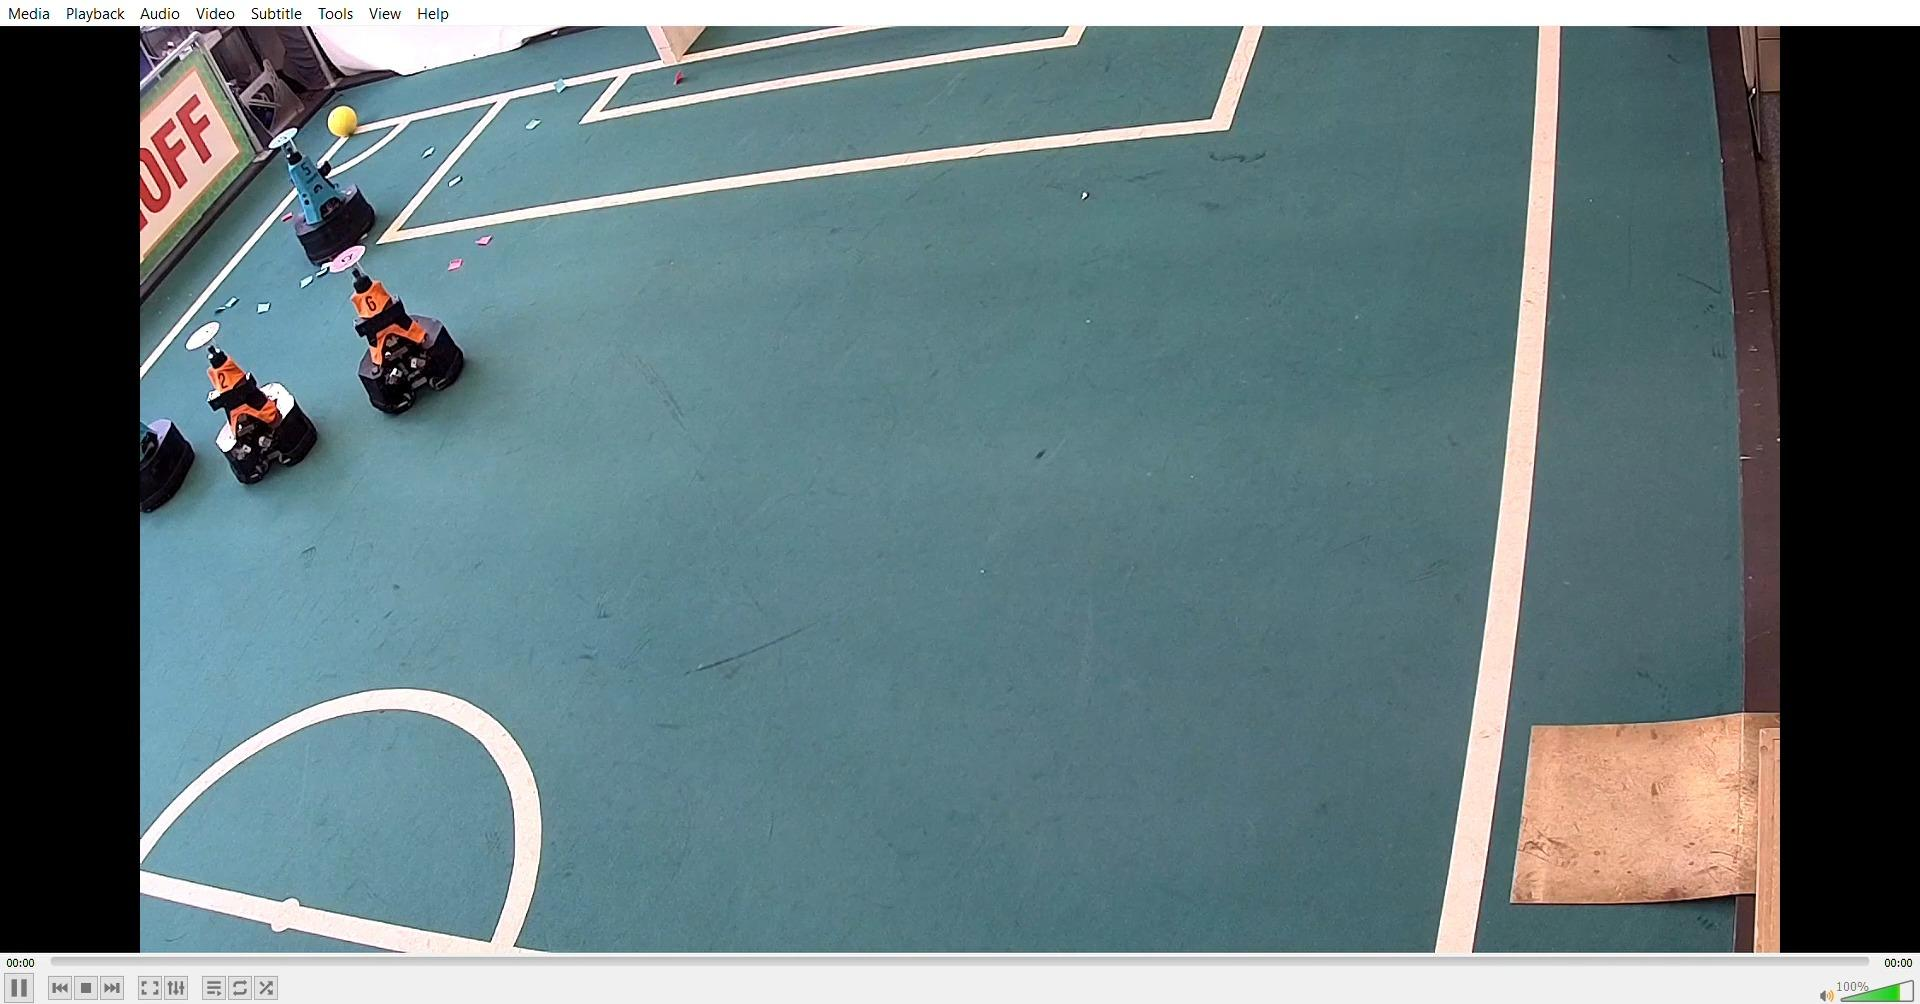Ball: (334, 104, 368, 136)
Team_Blue: (272, 128, 383, 263)
Team_Red: (315, 240, 469, 410), (182, 315, 323, 485)
